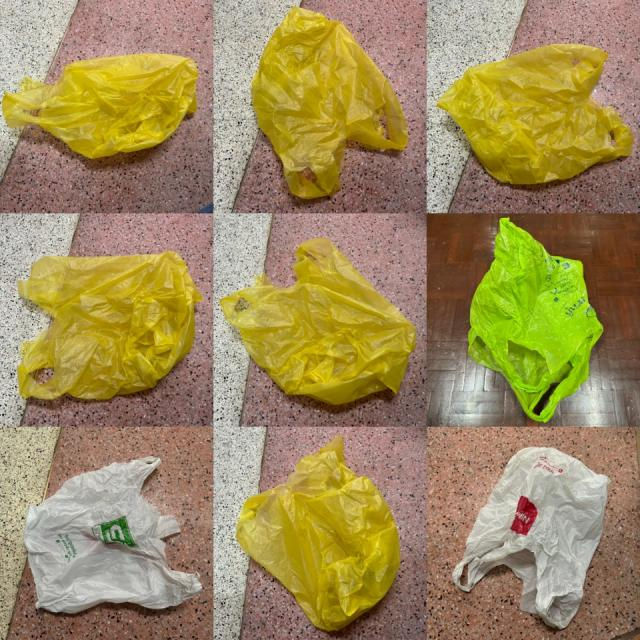Single-layer Plastic: (220, 238, 416, 404), (236, 435, 400, 631), (251, 8, 408, 199), (452, 448, 610, 628), (24, 456, 201, 613), (468, 218, 602, 422), (438, 45, 634, 184), (18, 251, 201, 399), (2, 54, 198, 158)
